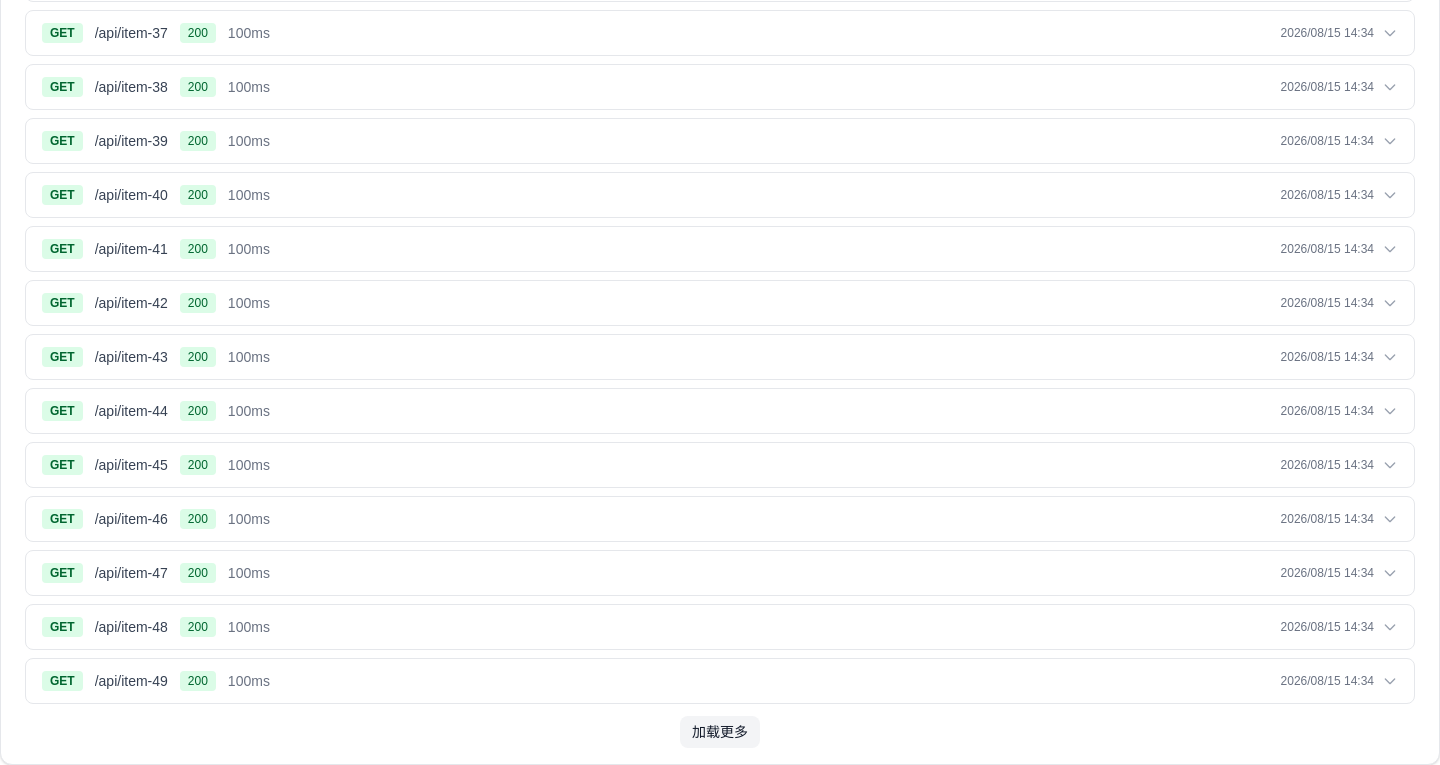
Test: RequestRecords 加载更多 (UX-4) › 返回数 < 50 判定无更多,「加载更多」按钮消失
(page scrolled)
Click the button "加载更多": (720, 732) [680,716,760,748]
(page scrolled)
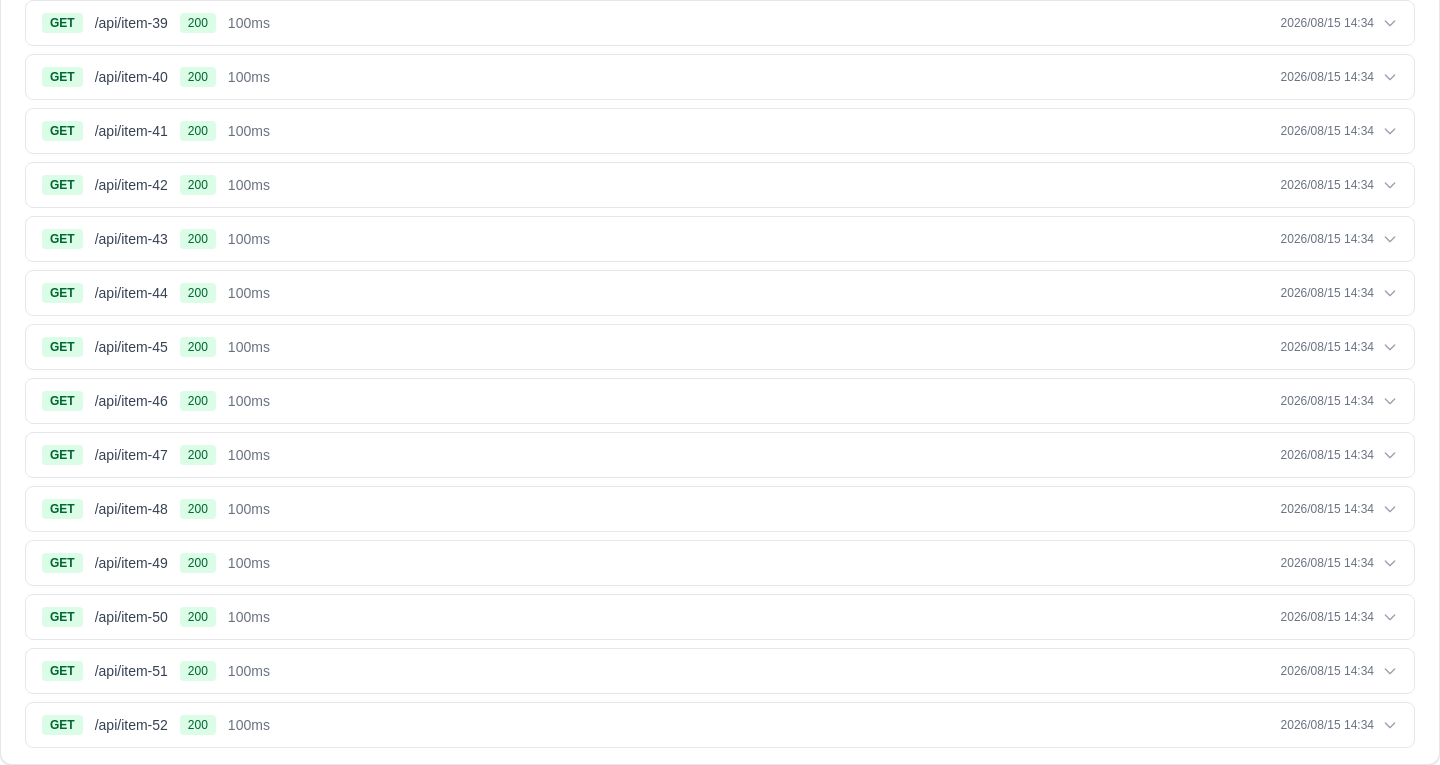
Now the text "/api/item-52" is shown, box [95,715,168,735]
Now the button "加载更多" is gone
